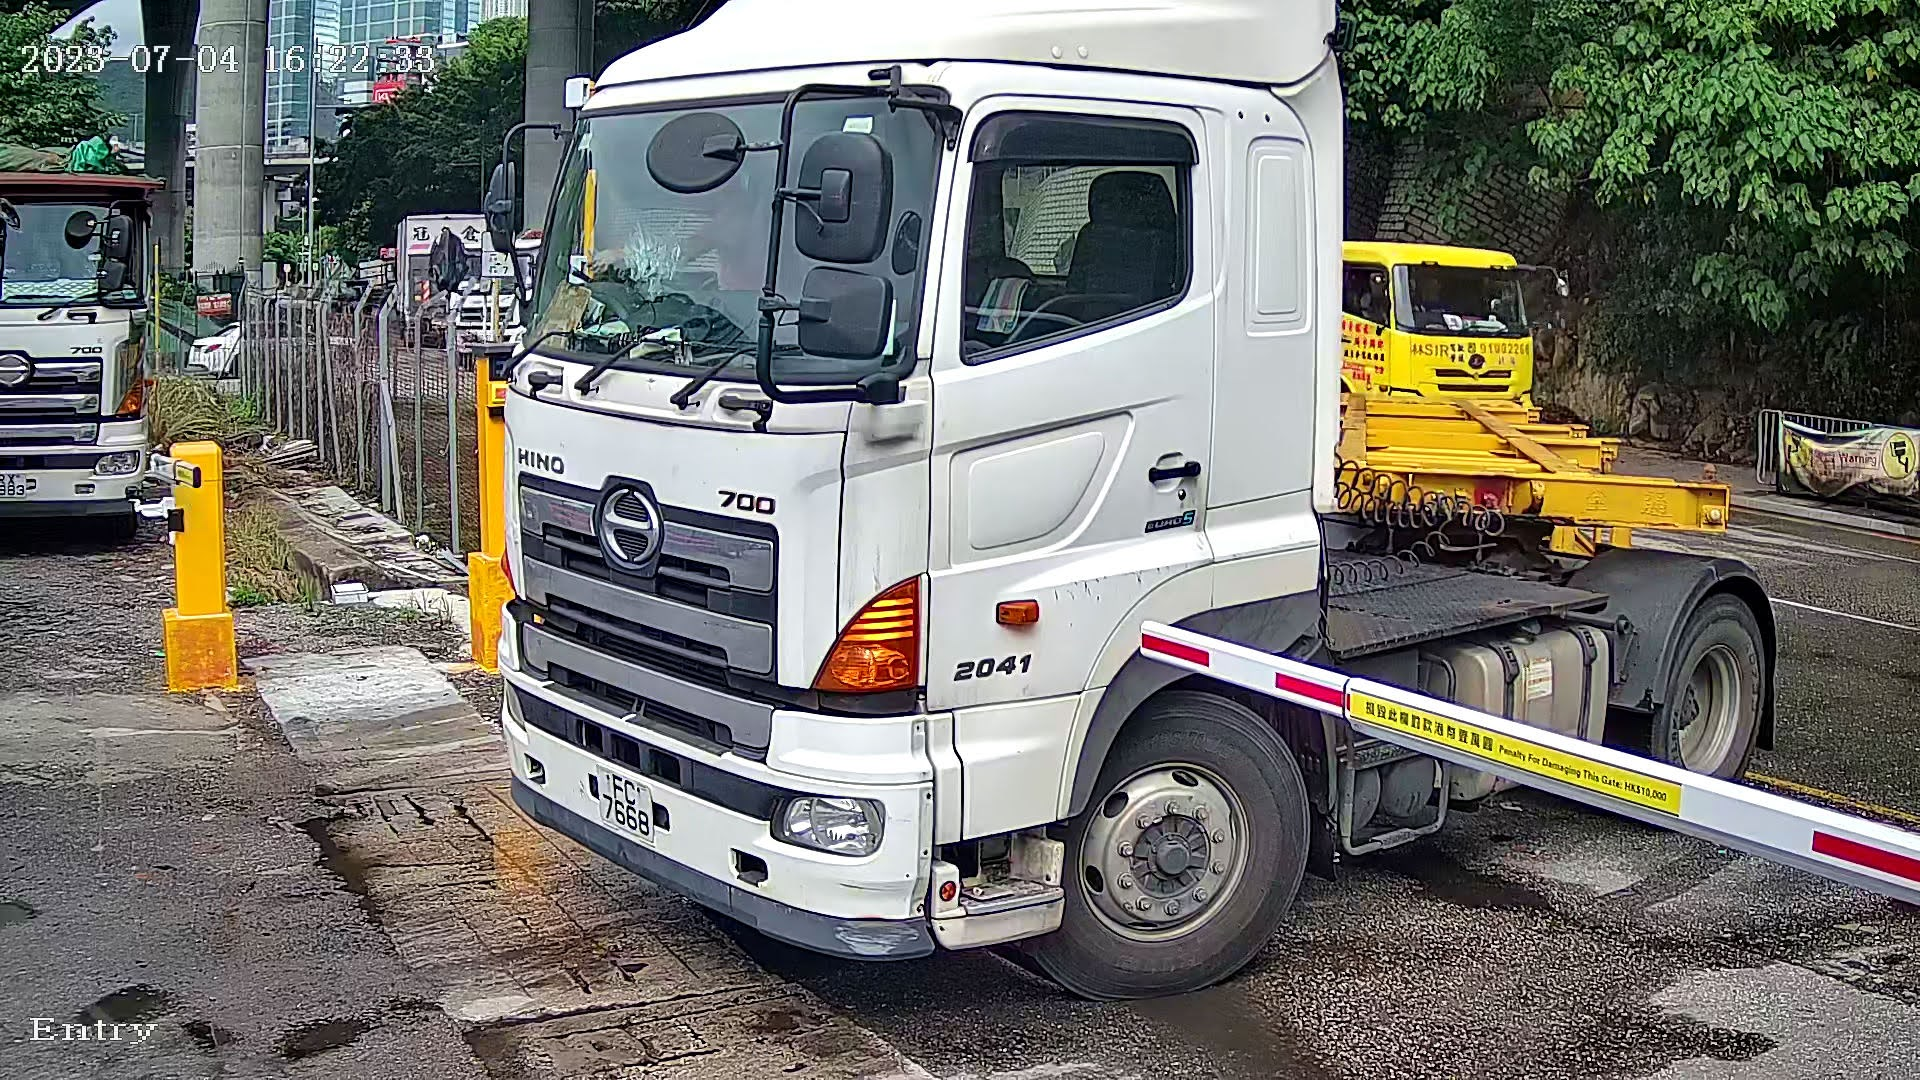tractor: (465, 1, 1799, 1004)
